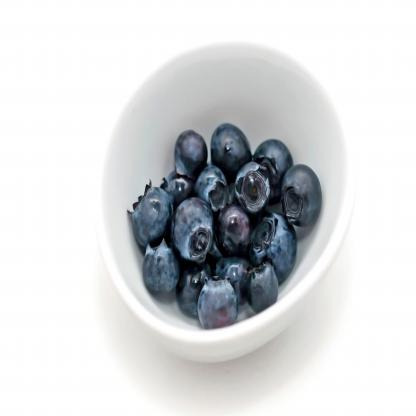blueberry: (249, 210, 298, 281), (282, 164, 323, 228), (130, 185, 173, 244), (197, 273, 239, 331), (174, 197, 212, 261), (211, 124, 250, 180), (235, 163, 273, 215), (214, 207, 250, 256), (195, 163, 228, 214), (145, 245, 177, 294), (174, 134, 208, 174)
